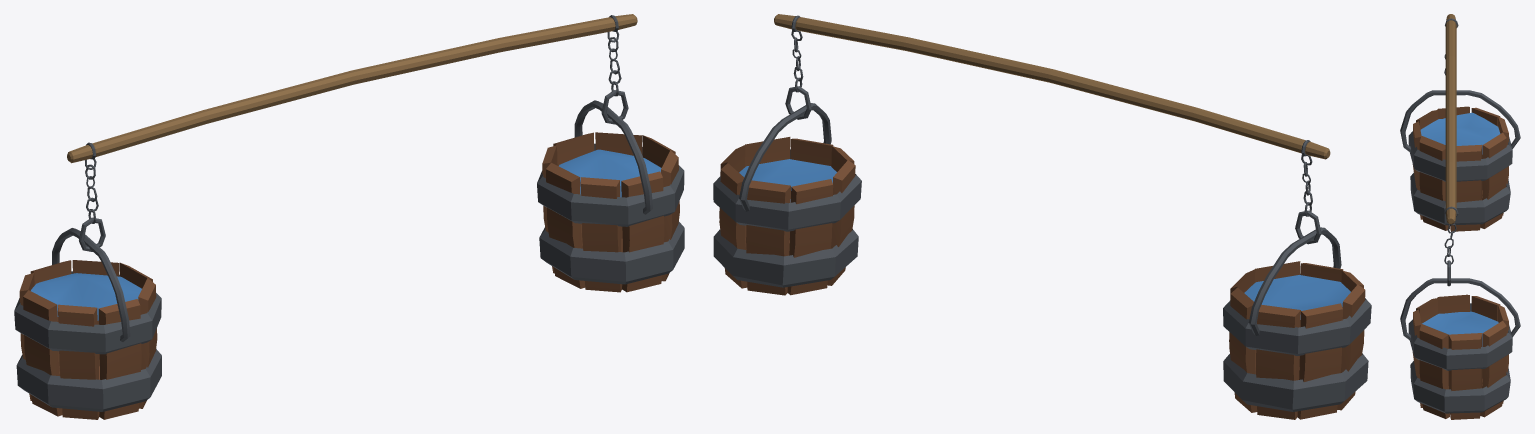
File: WaterBuckets_1.fbx
3 renders of one model, left to right at view 1: azimuth 30°, elevation 25°; view 2: azimuth 150°, elevation 25°; view 3: azimuth 270°, elevation 25°, orthographic. The views are drawn at different scales.
Parts seen in each view (by area): view 1: WaterBuckets_1; view 2: WaterBuckets_1; view 3: WaterBuckets_1.
Part boxes in pixels (<box>): WaterBuckets_1: <box>14,14,684,419</box>; WaterBuckets_1: <box>713,14,1371,419</box>; WaterBuckets_1: <box>1400,14,1520,419</box>.
Bounding box in the file's own units: 185 × 73.21 × 40.34.
